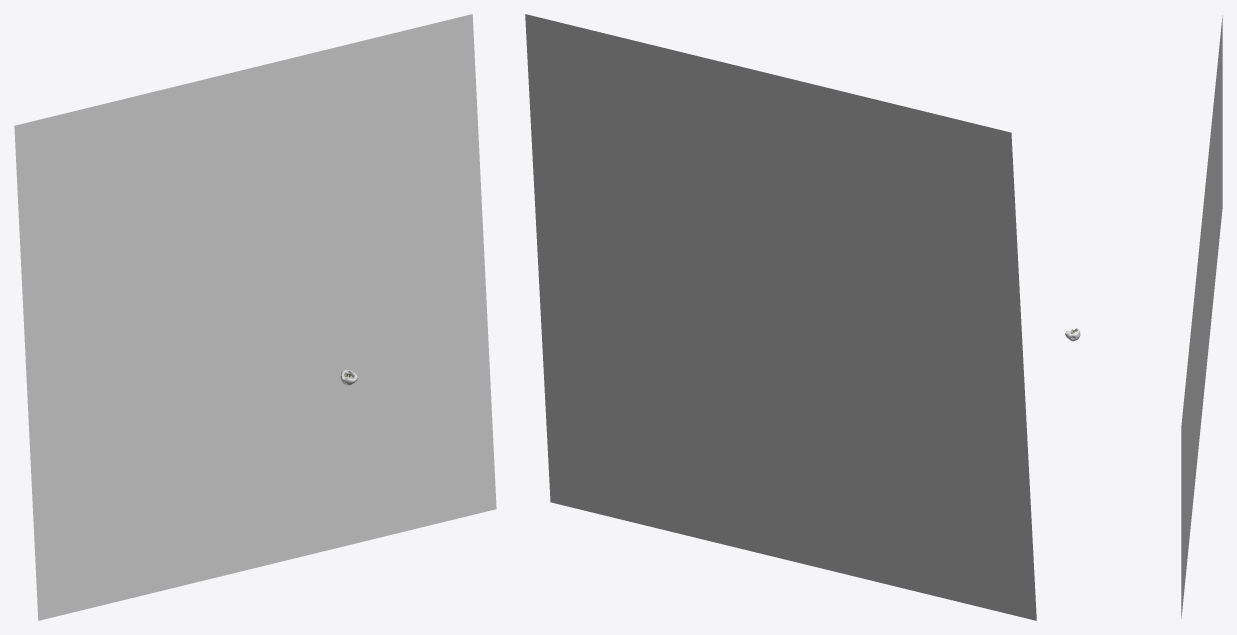
File: FODBOLD_STAGE03_NIKE-kopi 2.fbx
3 views of the same model, side by side, from view 1: azimuth 30°, elevation 25°; view 2: azimuth 150°, elevation 25°; view 3: azimuth 270°, elevation 25° (orthographic). The views are drawn at different scales.
Parts seen in each view (by area): view 1: Plane.001; view 2: Plane.001; view 3: Plane.001.
Part boxes in pixels (box(x1,y1,x2,y2)): Plane.001: box(14, 14, 496, 620); Plane.001: box(525, 14, 1036, 620); Plane.001: box(1181, 15, 1222, 618).
Bounding box in the file's own units: 4611 × 4592 × 1583.
